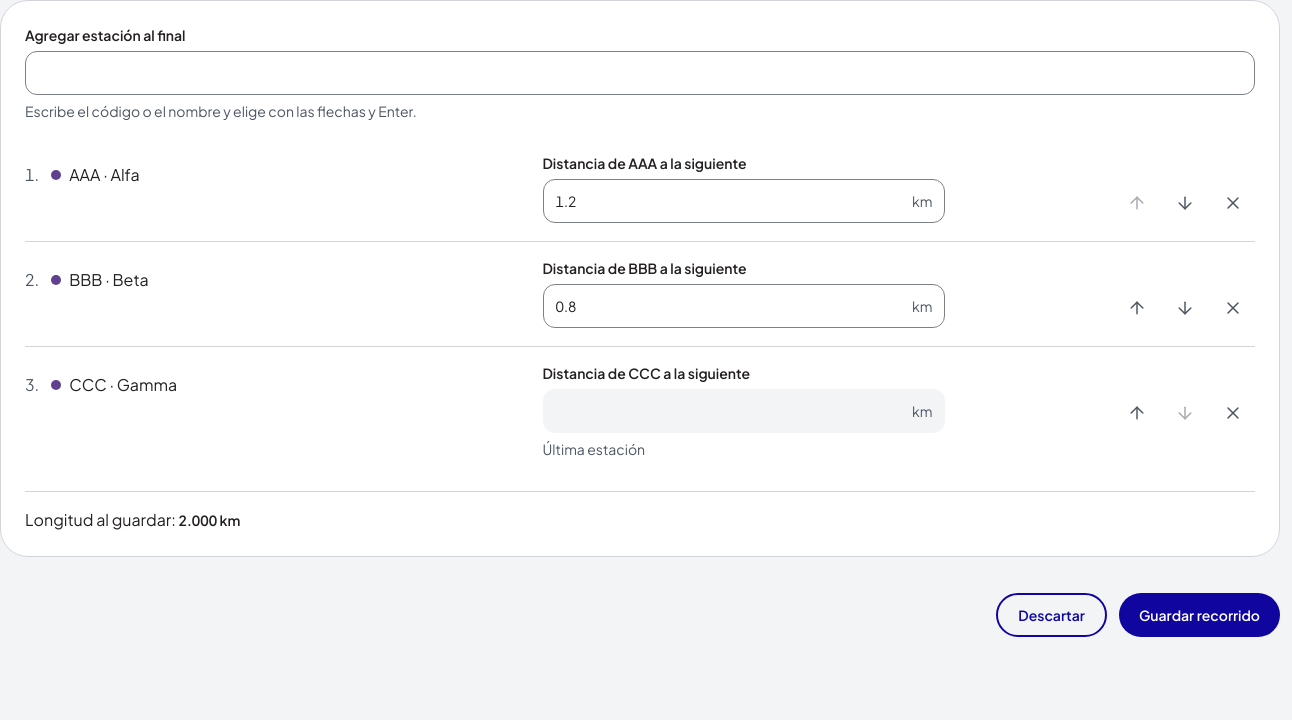
Test case: EditorDeRecorrido › el buscador excluye las estaciones ya agregadas
The image size is (1292, 720).
Step 1. Click the dropdown labelled "Agregar estación al final" → (640,73), box [25,51,1255,95]
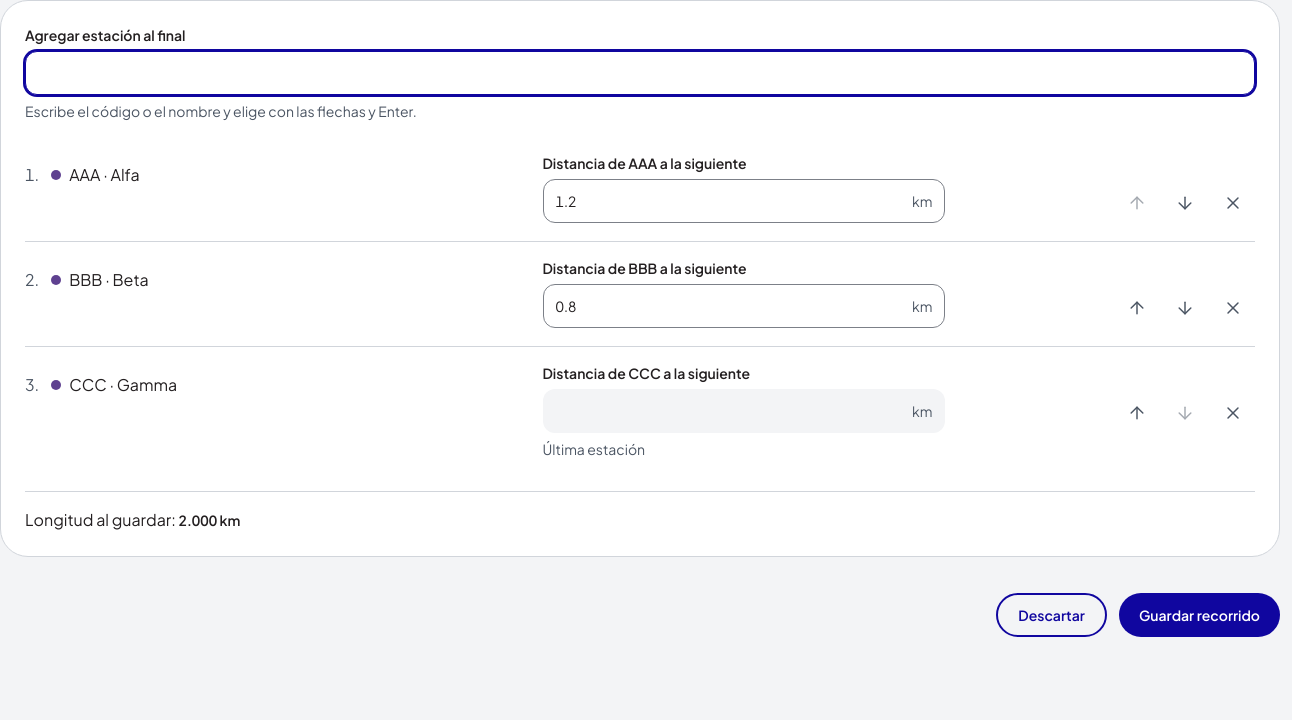
Step 2. Type keys "a"
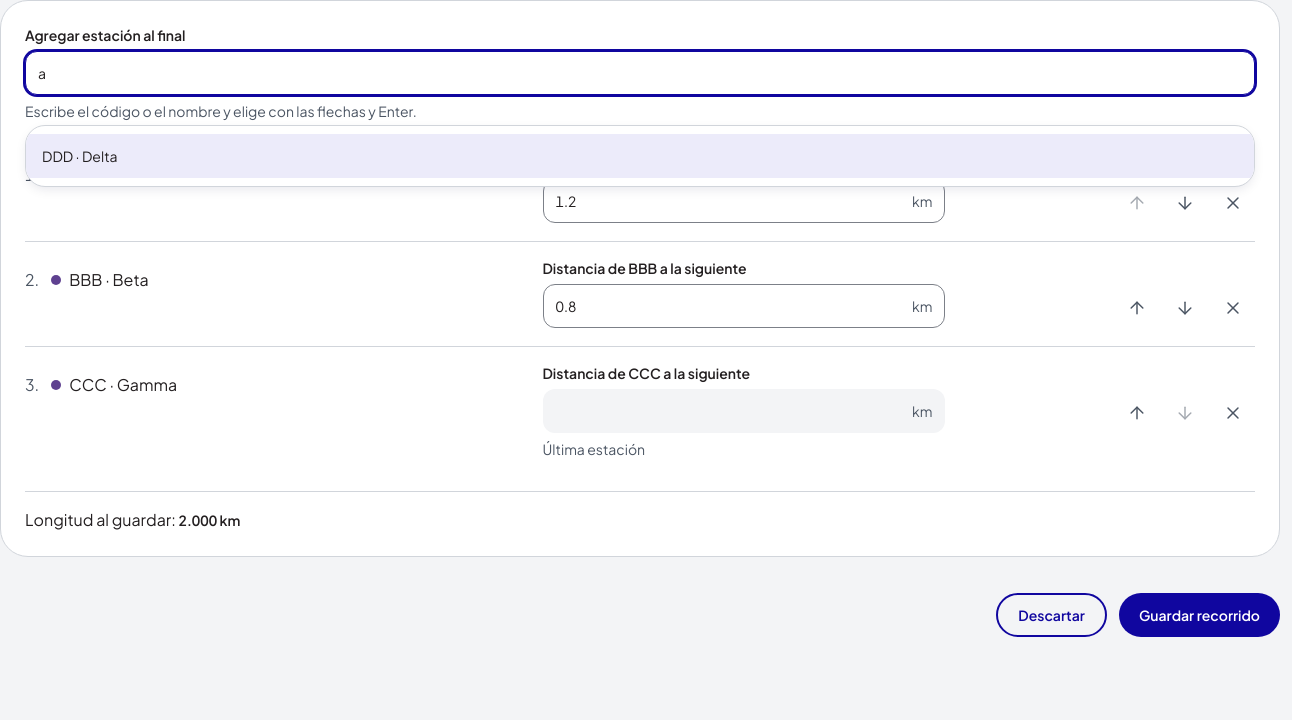
Result: the options read "DDD · Delta", in this order at [26,134,1254,178]
